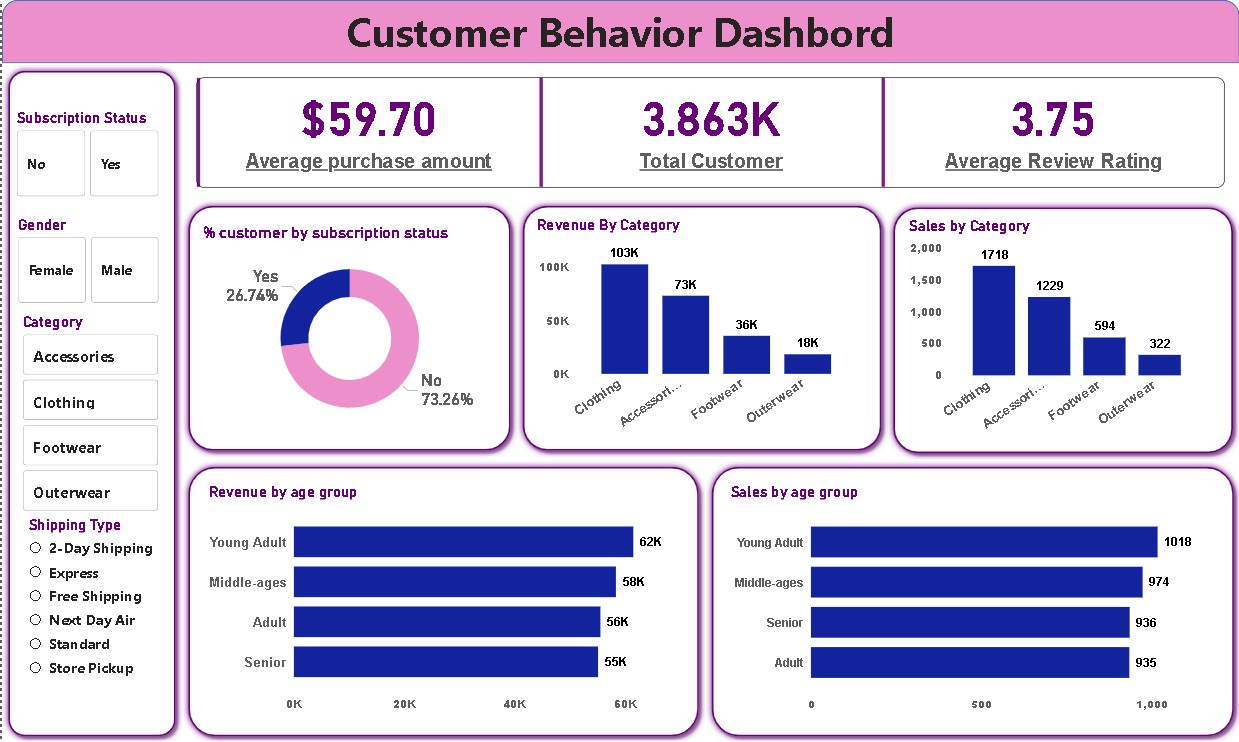

Layout of this report page (visuals, bound fields, positions):
{"tool":"powerbi","page":{"name":"Page 1","canvas":[1500,900],"ordinal":0},"visuals":[{"type":"cardVisual","fields":{"Data":["public customer.average purchase amount","public customer.count of customer","Avg(public customer.review_rating)"]},"box":[218,76,1282,168],"z":0},{"type":"shape","box":[0,0,1500,76.7],"z":1000},{"type":"shape","box":[218,242,406,312],"z":2000},{"type":"donutChart","title":"%  customer by subscription status","fields":{"Category":["public customer.subscription_status"],"Y":["Sum(public customer.customer_id)"]},"box":[238,270,366,256],"z":3000},{"type":"shape","box":[1073.3,243.3,427,313.3],"z":4000},{"type":"shape","box":[624,242,450,312],"z":5000},{"type":"clusteredColumnChart","title":"Revenue By Category","fields":{"Y":["Sum(public customer.purchase_amount)"],"Category":["public customer.category"]},"box":[644,262,398,270],"z":6000},{"type":"clusteredColumnChart","title":"Sales by Category","fields":{"Category":["public customer.category"],"Y":["CountNonNull(public customer.customer_id)"]},"box":[1094,264,368,270],"z":6001},{"type":"shape","box":[218,558,634,342],"z":6002},{"type":"textbox","box":[0,0,1500,76],"z":6005},{"type":"shape","box":[0,78,218,822],"z":6006},{"type":"advancedSlicerVisual","fields":{"Values":["public customer.subscription_status"]},"box":[12,132,182,110],"z":6007},{"type":"advancedSlicerVisual","fields":{"Values":["public customer.gender"]},"box":[14,262,180,110],"z":6008},{"type":"advancedSlicerVisual","title":"Category","fields":{"Values":["public customer.category"]},"box":[20,380,174,246],"z":6009},{"type":"listSlicer","fields":{"Values":["public customer.shipping_type"]},"box":[28,626,164,260],"z":6010},{"type":"barChart","title":"Revenue by age group","fields":{"Y":["Sum(public customer.purchase_amount)"],"Category":["public customer.age_group"]},"box":[246,586,576,288],"z":6011},{"type":"shape","box":[852,558,648,342],"z":6012},{"type":"barChart","title":"Sales by age group","fields":{"Y":["CountNonNull(public customer.customer_id)"],"Category":["public customer.age_group"]},"box":[878,586,588,288],"z":6013}]}

Visuals, with their boxes in screenshot pixels (x1, y1, x2, y2), scaled from the page's 1500x900 canvas onto the 1239x742 screenshot:
cardVisual - public customer.average purchase amount x public customer.count of customer: x1=180 y1=63 x2=1238 y2=201
shape: x1=0 y1=0 x2=1238 y2=63
shape: x1=180 y1=200 x2=515 y2=457
"%  customer by subscription status" donutChart: x1=197 y1=223 x2=499 y2=434
shape: x1=887 y1=201 x2=1238 y2=459
shape: x1=515 y1=200 x2=887 y2=457
"Revenue By Category" clusteredColumnChart: x1=532 y1=216 x2=861 y2=439
"Sales by Category" clusteredColumnChart: x1=904 y1=218 x2=1208 y2=440
shape: x1=180 y1=460 x2=704 y2=741
textbox: x1=0 y1=0 x2=1238 y2=63
shape: x1=0 y1=64 x2=180 y2=741
advancedSlicerVisual - public customer.subscription_status: x1=10 y1=109 x2=160 y2=200
advancedSlicerVisual - public customer.gender: x1=12 y1=216 x2=160 y2=307
"Category" advancedSlicerVisual: x1=17 y1=313 x2=160 y2=516
listSlicer - public customer.shipping_type: x1=23 y1=516 x2=159 y2=730
"Revenue by age group" barChart: x1=203 y1=483 x2=679 y2=721
shape: x1=704 y1=460 x2=1238 y2=741
"Sales by age group" barChart: x1=725 y1=483 x2=1211 y2=721
